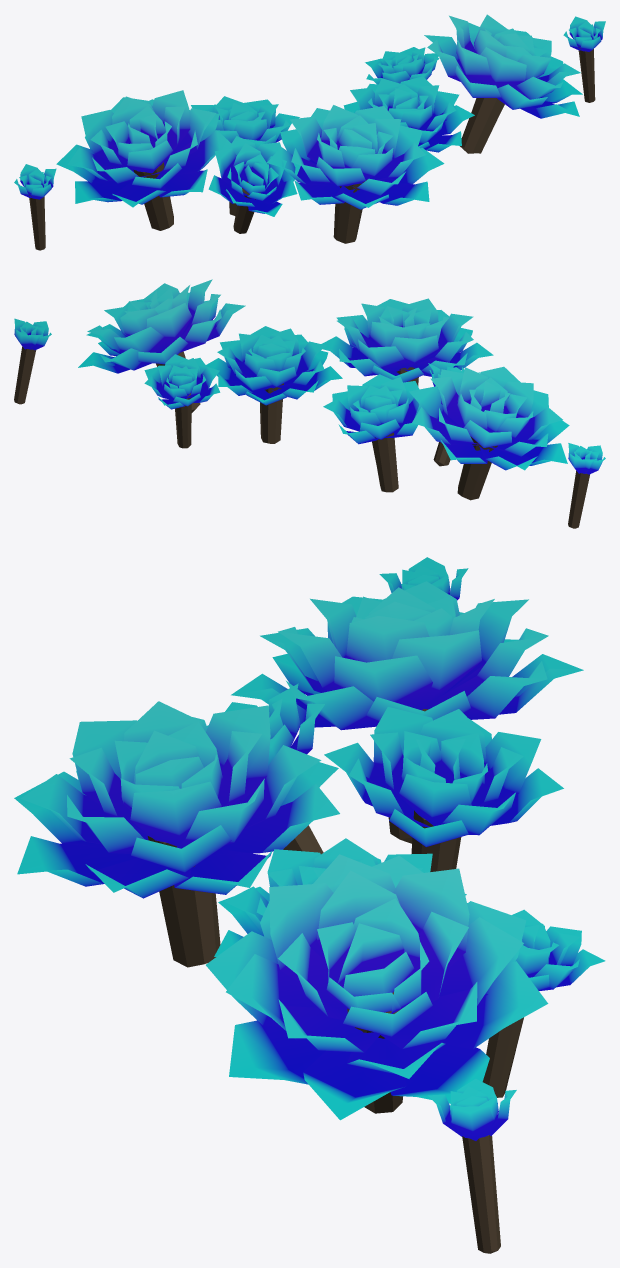
Rendered from SM_Env_Succulent_01.fbx.
3 renders of one model, top to bottom at view 1: azimuth 30°, elevation 25°; view 2: azimuth 150°, elevation 25°; view 3: azimuth 270°, elevation 25°, orthographic. The views are drawn at different scales.
Parts seen in each view (by area): view 1: SM_Env_Succulent_01_LOD0; view 2: SM_Env_Succulent_01_LOD0; view 3: SM_Env_Succulent_01_LOD0.
Boxes of the visible parts, x1,y1,x2,y2 form: SM_Env_Succulent_01_LOD0: [14, 14, 605, 250]; SM_Env_Succulent_01_LOD0: [14, 279, 605, 528]; SM_Env_Succulent_01_LOD0: [14, 557, 605, 1253].
Size of what is drawn, in the model's own units: 233 by 53.68 by 104.
